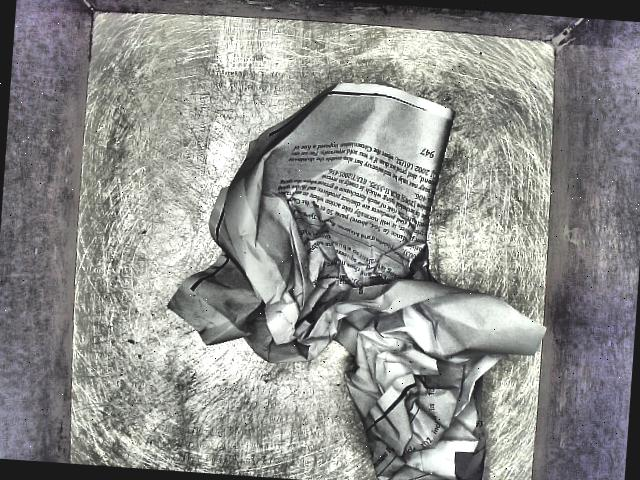Paper: (144, 61, 570, 480)
